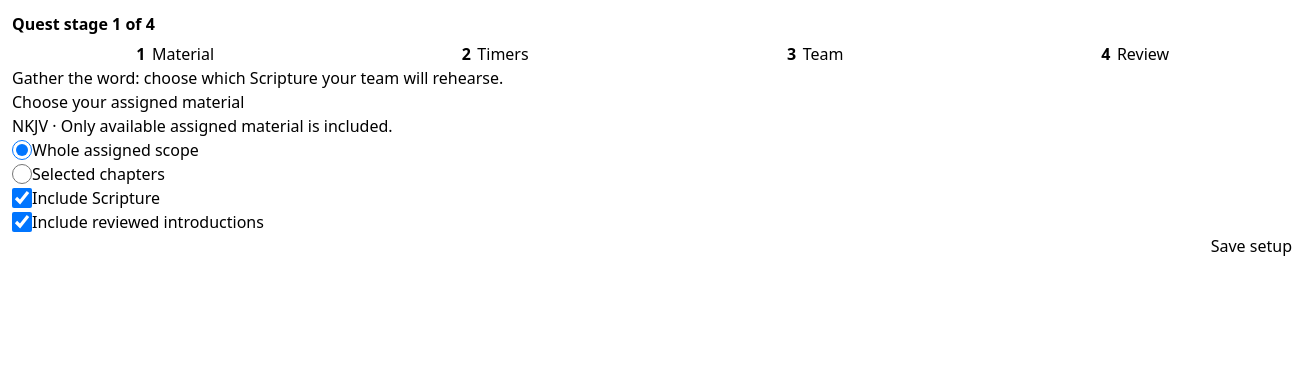
Scenario: Simulation setup › blocks empty explicit chapters and locks full event count
Click the radio button labelled "Selected chapters": coordinates (22, 174) [12,164,32,184]
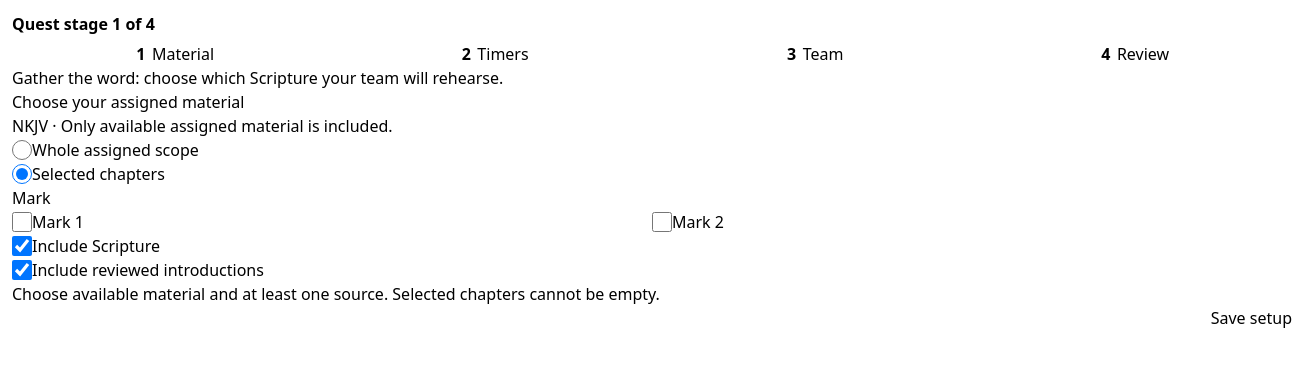
Result: the button "Save setup" is disabled at [1211,306,1292,330]
Click the tab "2 Timers": coordinates (492, 54) [332,42,652,66]
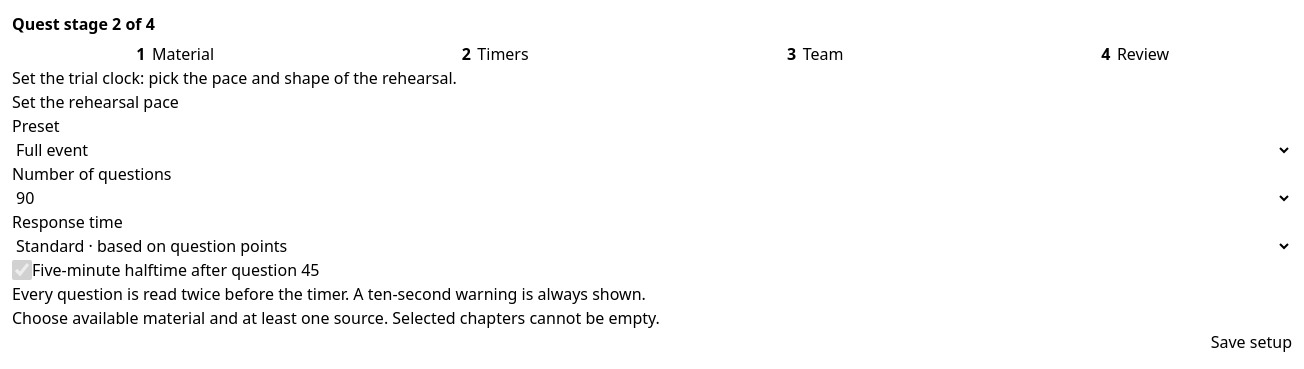
Result: the dropdown labelled "Number of questions" is disabled at [12,186,1292,210]
